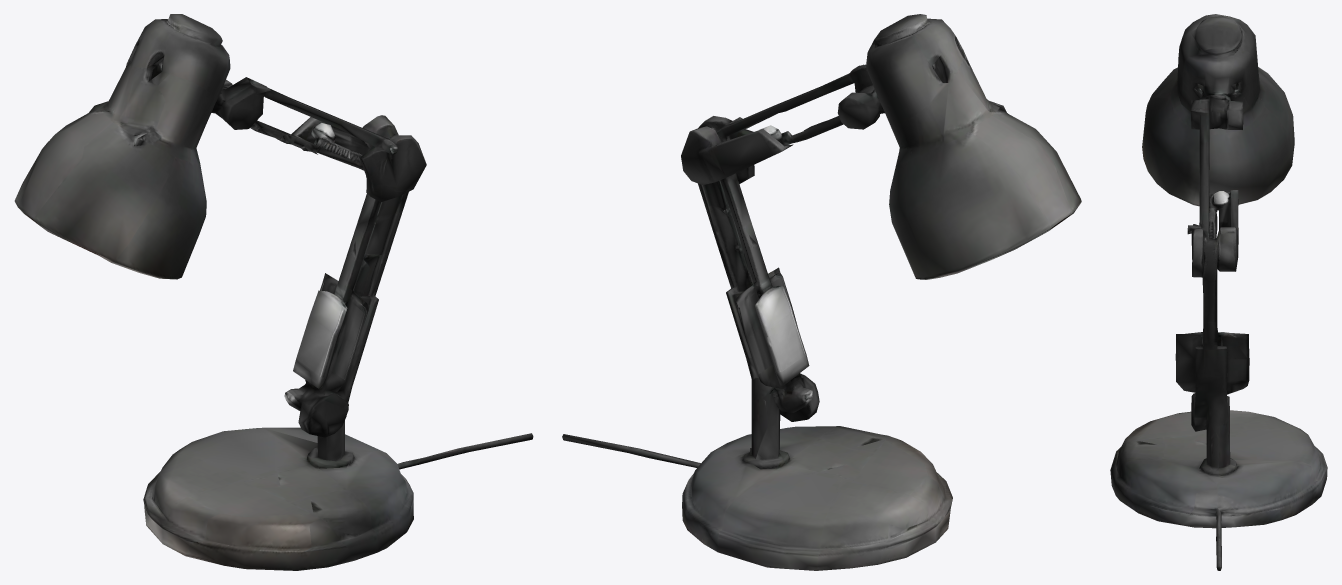
Rendered from generic_lamp.glb.
3 renders of one model, left to right at view 1: azimuth 30°, elevation 25°; view 2: azimuth 150°, elevation 25°; view 3: azimuth 270°, elevation 25°, orthographic. The views are drawn at different scales.
Visible parts, largest first — view 1: tripo_node_3405ca3a-885f-4f68-ab7c-f91b674085bd; view 2: tripo_node_3405ca3a-885f-4f68-ab7c-f91b674085bd; view 3: tripo_node_3405ca3a-885f-4f68-ab7c-f91b674085bd.
Part boxes in pixels (x1=…): tripo_node_3405ca3a-885f-4f68-ab7c-f91b674085bd: x1=14, y1=14, x2=533, y2=570; tripo_node_3405ca3a-885f-4f68-ab7c-f91b674085bd: x1=562, y1=14, x2=1081, y2=570; tripo_node_3405ca3a-885f-4f68-ab7c-f91b674085bd: x1=1110, y1=14, x2=1327, y2=570.
Size of the model in its own units: 0.9795 by 0.9709 by 0.4488.
1 material, 1 textured.
